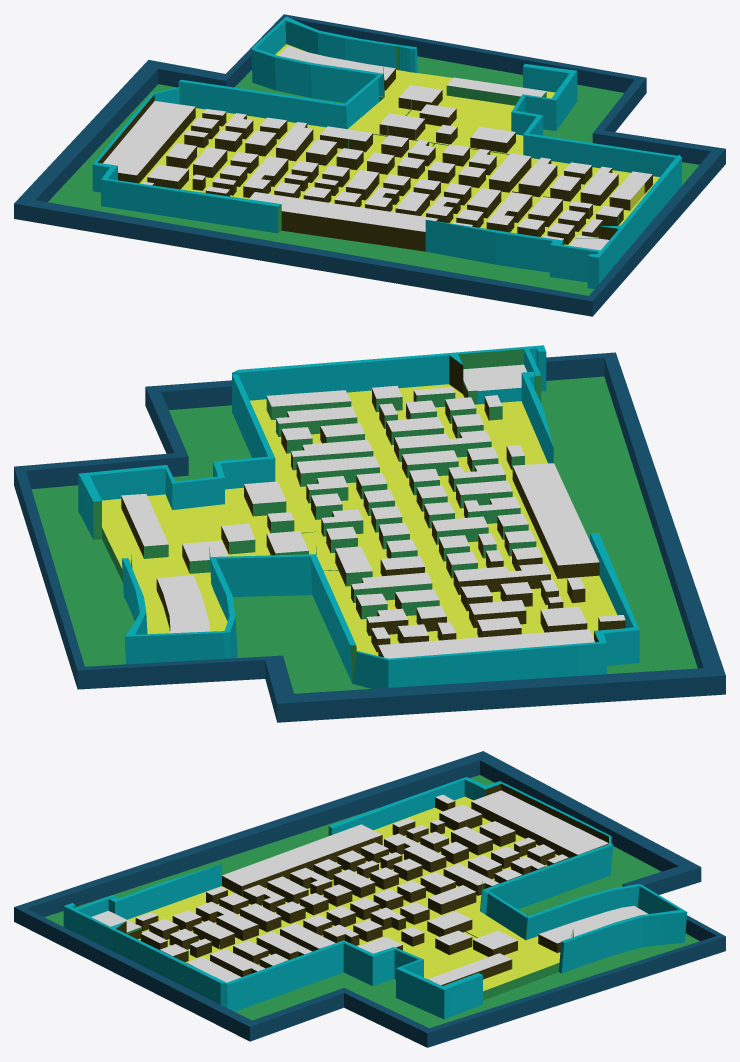
The model's file is NRF_V_01.glb.
3 views of the same model, one above another, from view 1: azimuth 30°, elevation 25°; view 2: azimuth 150°, elevation 25°; view 3: azimuth 270°, elevation 25° (orthographic). The views are drawn at different scales.
Visible parts, largest first — view 1: Ways; view 2: Ways; view 3: Ways.
Part boxes in pixels (left/top/right/bottom): Ways: left=14, top=14, right=725, bottom=316; Ways: left=14, top=345, right=725, bottom=722; Ways: left=14, top=751, right=725, bottom=1047.
Bounding box in the file's own units: 237 × 15.75 × 253.
